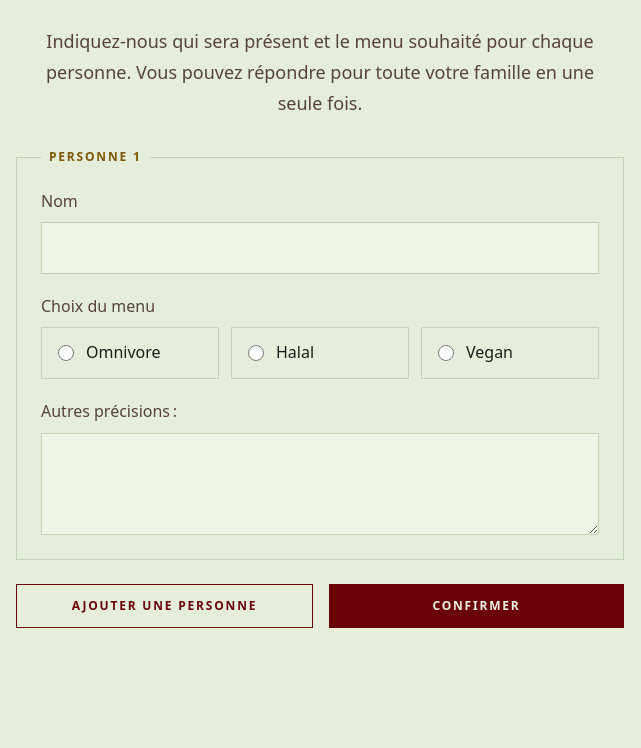
RsvpPage › drops a person added by mistake
(page scrolled)
Click the button "Ajouter une personne" at (164,606), box [16,584,313,628]
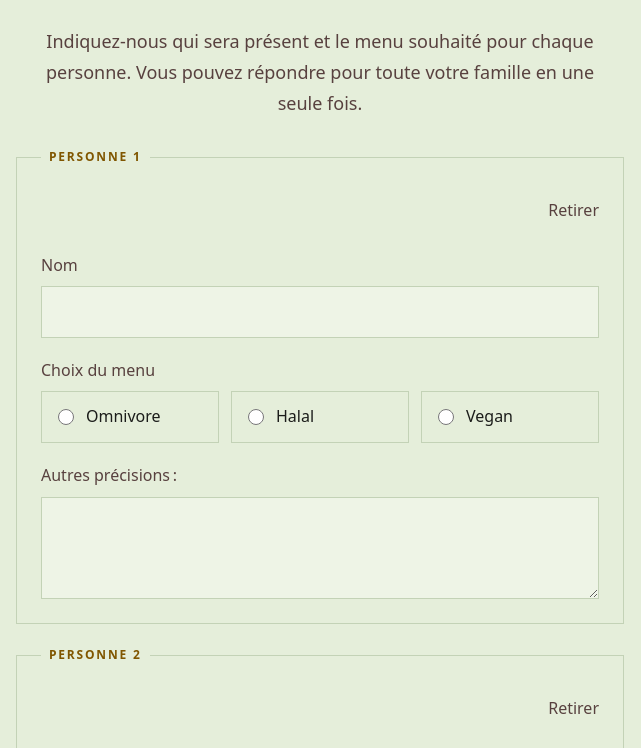
Click the button with aria-label "Retirer la personne 2" at (574,709), box [536,687,611,731]
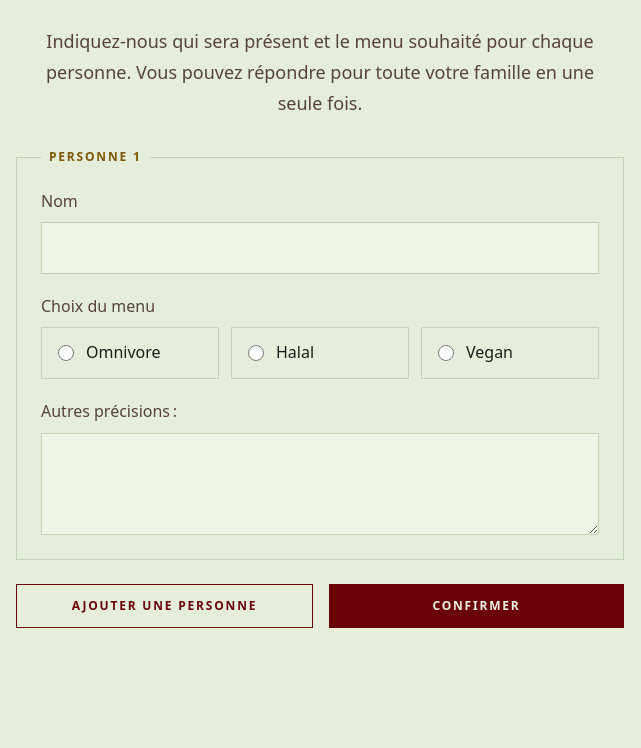
Now the text "Personne 2" is gone
